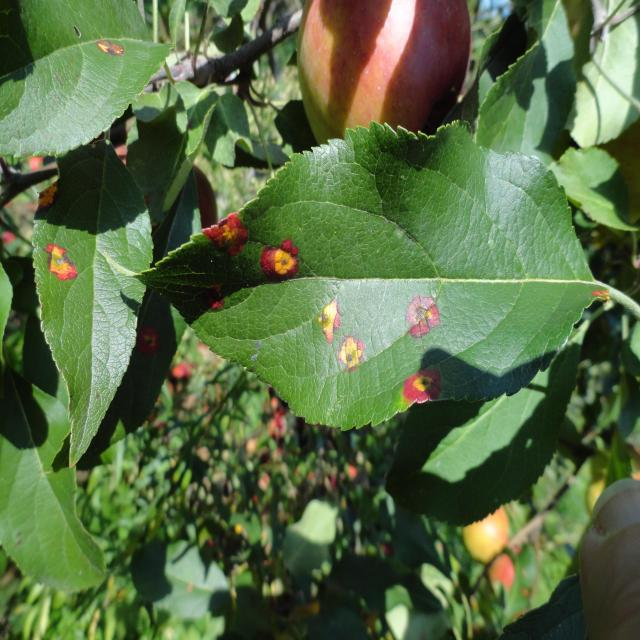Rust: (254, 226, 310, 308), (31, 228, 86, 301), (394, 360, 452, 426), (200, 200, 256, 268), (187, 277, 252, 326), (405, 276, 448, 348), (329, 330, 371, 380), (307, 296, 343, 344)
